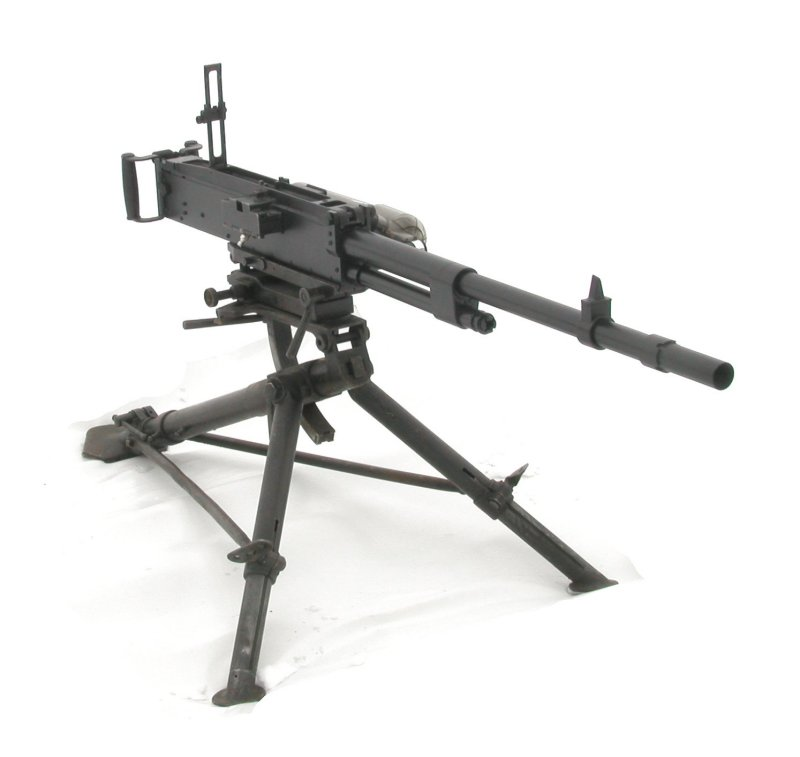rifle: (48, 31, 726, 702)
